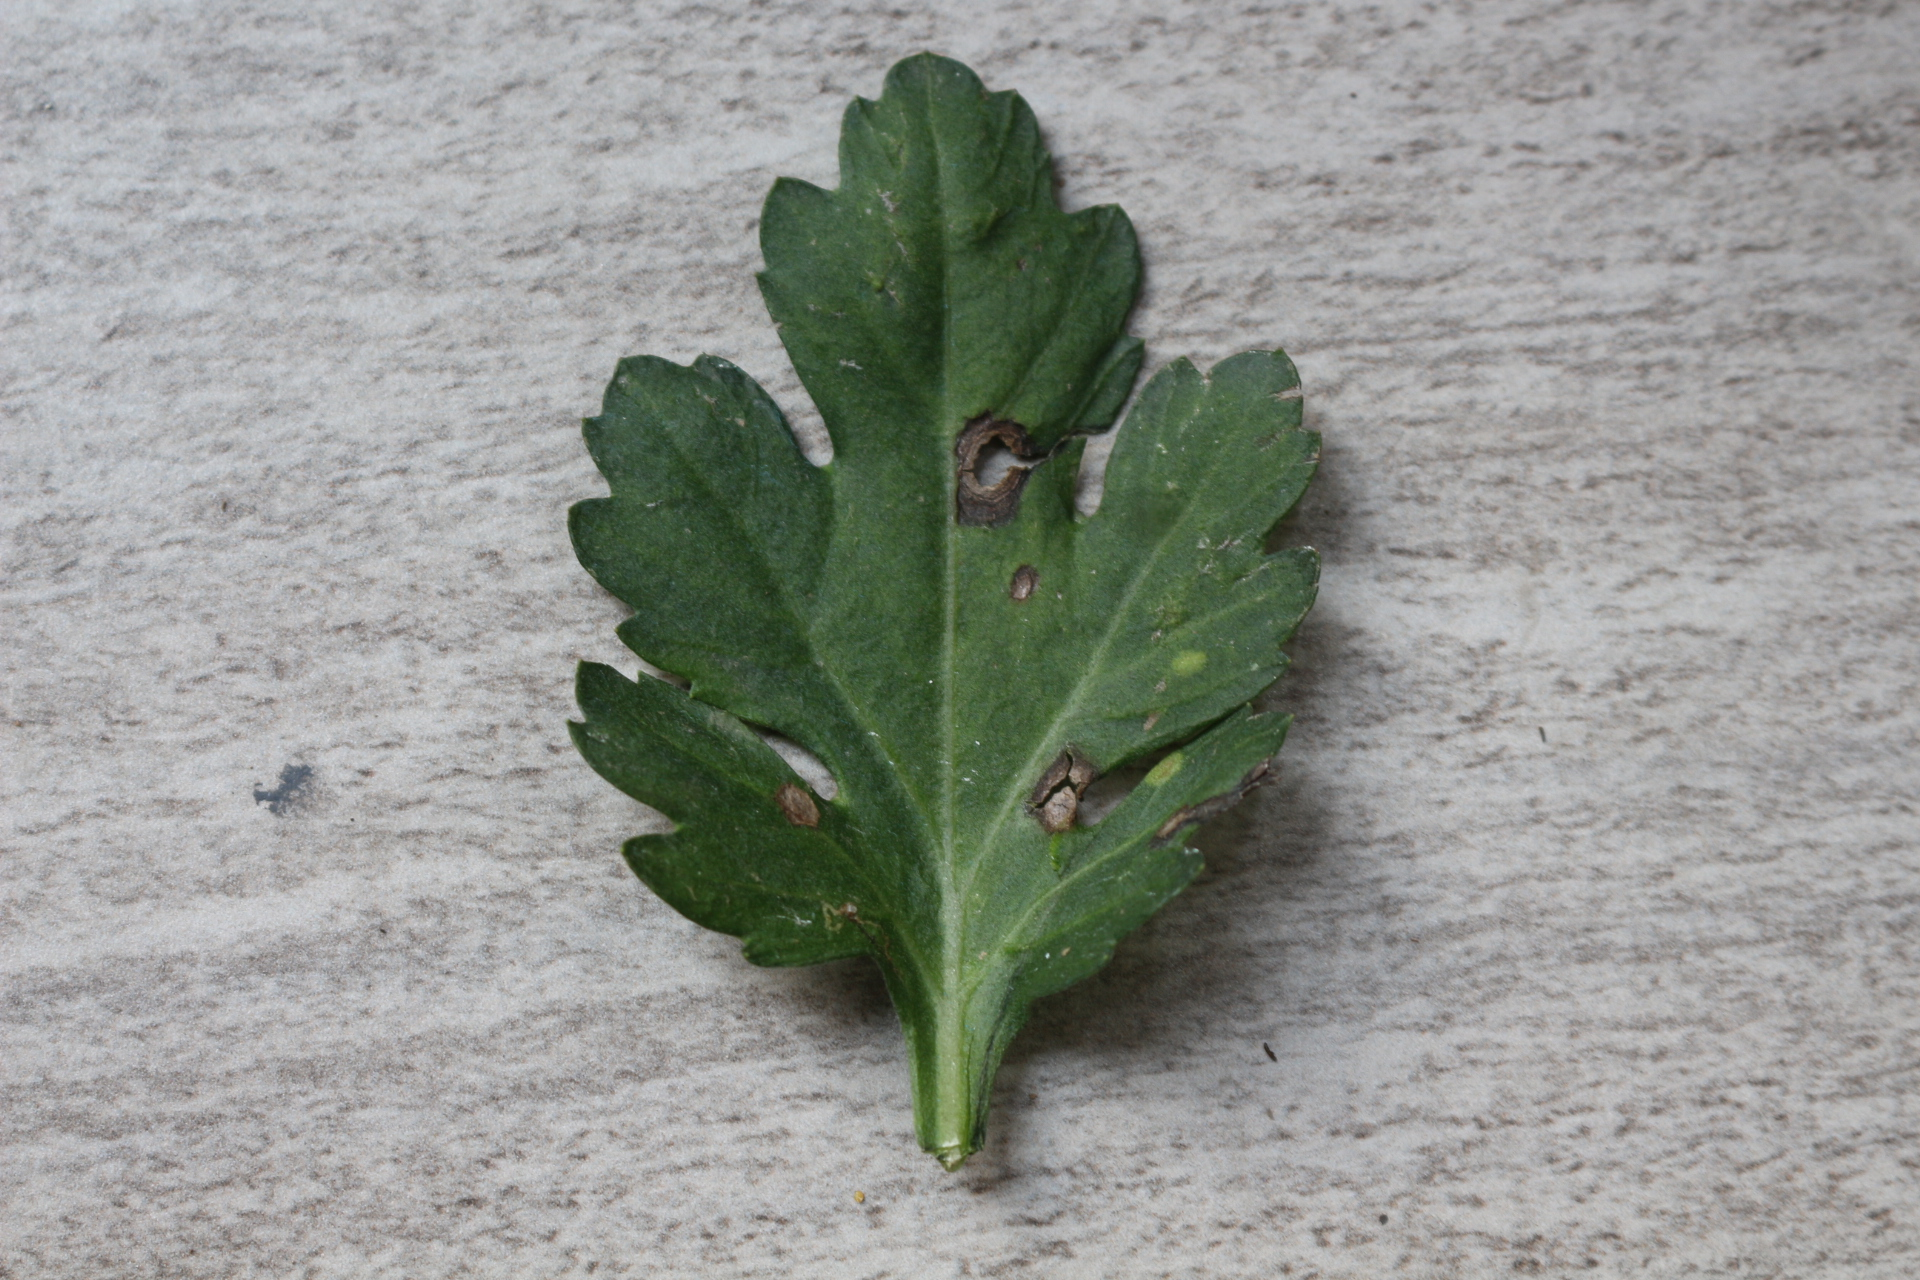namden: (1004, 561, 1046, 607)
namsung: (1167, 646, 1216, 691), (1146, 751, 1191, 791)
